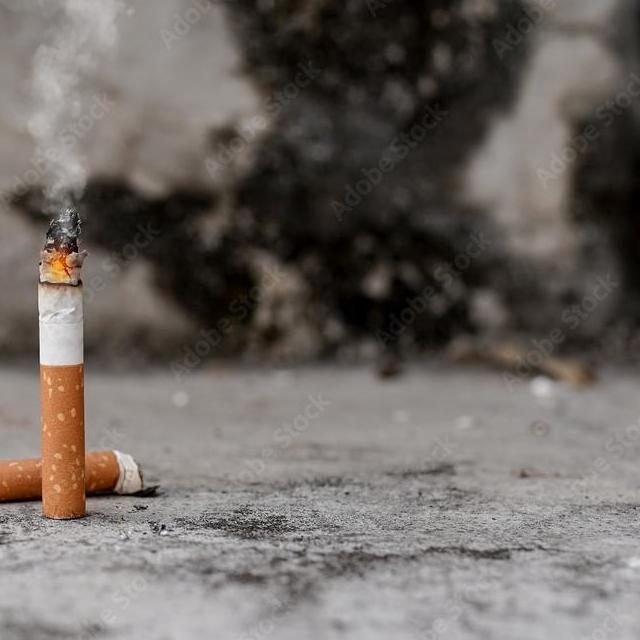Cigarette Butt: (38, 205, 90, 522), (0, 446, 145, 504)
